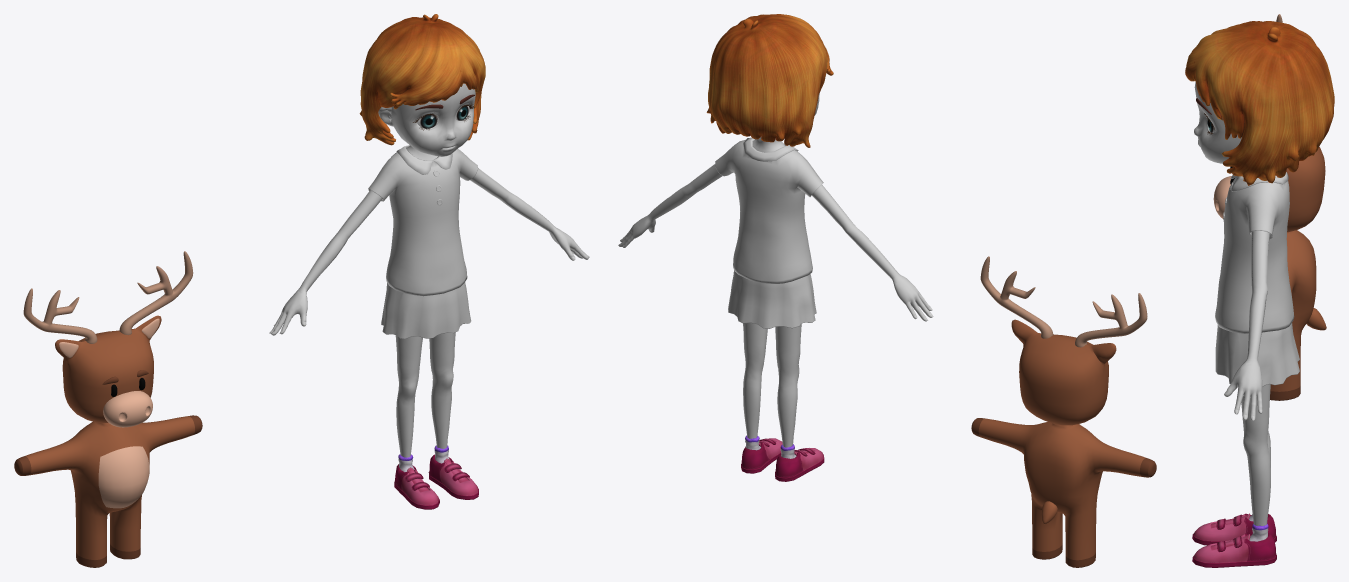
Rendered from girl (1).fbx.
The picture shows the model from 3 angles, left to right: view 1: azimuth 30°, elevation 25°; view 2: azimuth 150°, elevation 25°; view 3: azimuth 270°, elevation 25°; orthographic projection. The views are drawn at different scales.
Parts seen in each view (by area): view 1: skirt_geo, Cube.001; view 2: skirt_geo, Cube.001; view 3: skirt_geo, Cube.001.
Part boxes in pixels (x1,y1,x2,y2): skirt_geo: (269,14,589,509); Cube.001: (14,251,202,567); skirt_geo: (618,14,933,481); Cube.001: (971,256,1156,567); skirt_geo: (1185,21,1334,567); Cube.001: (1213,14,1326,400).
Bounding box in the file's own units: 1183 × 946 × 241.
